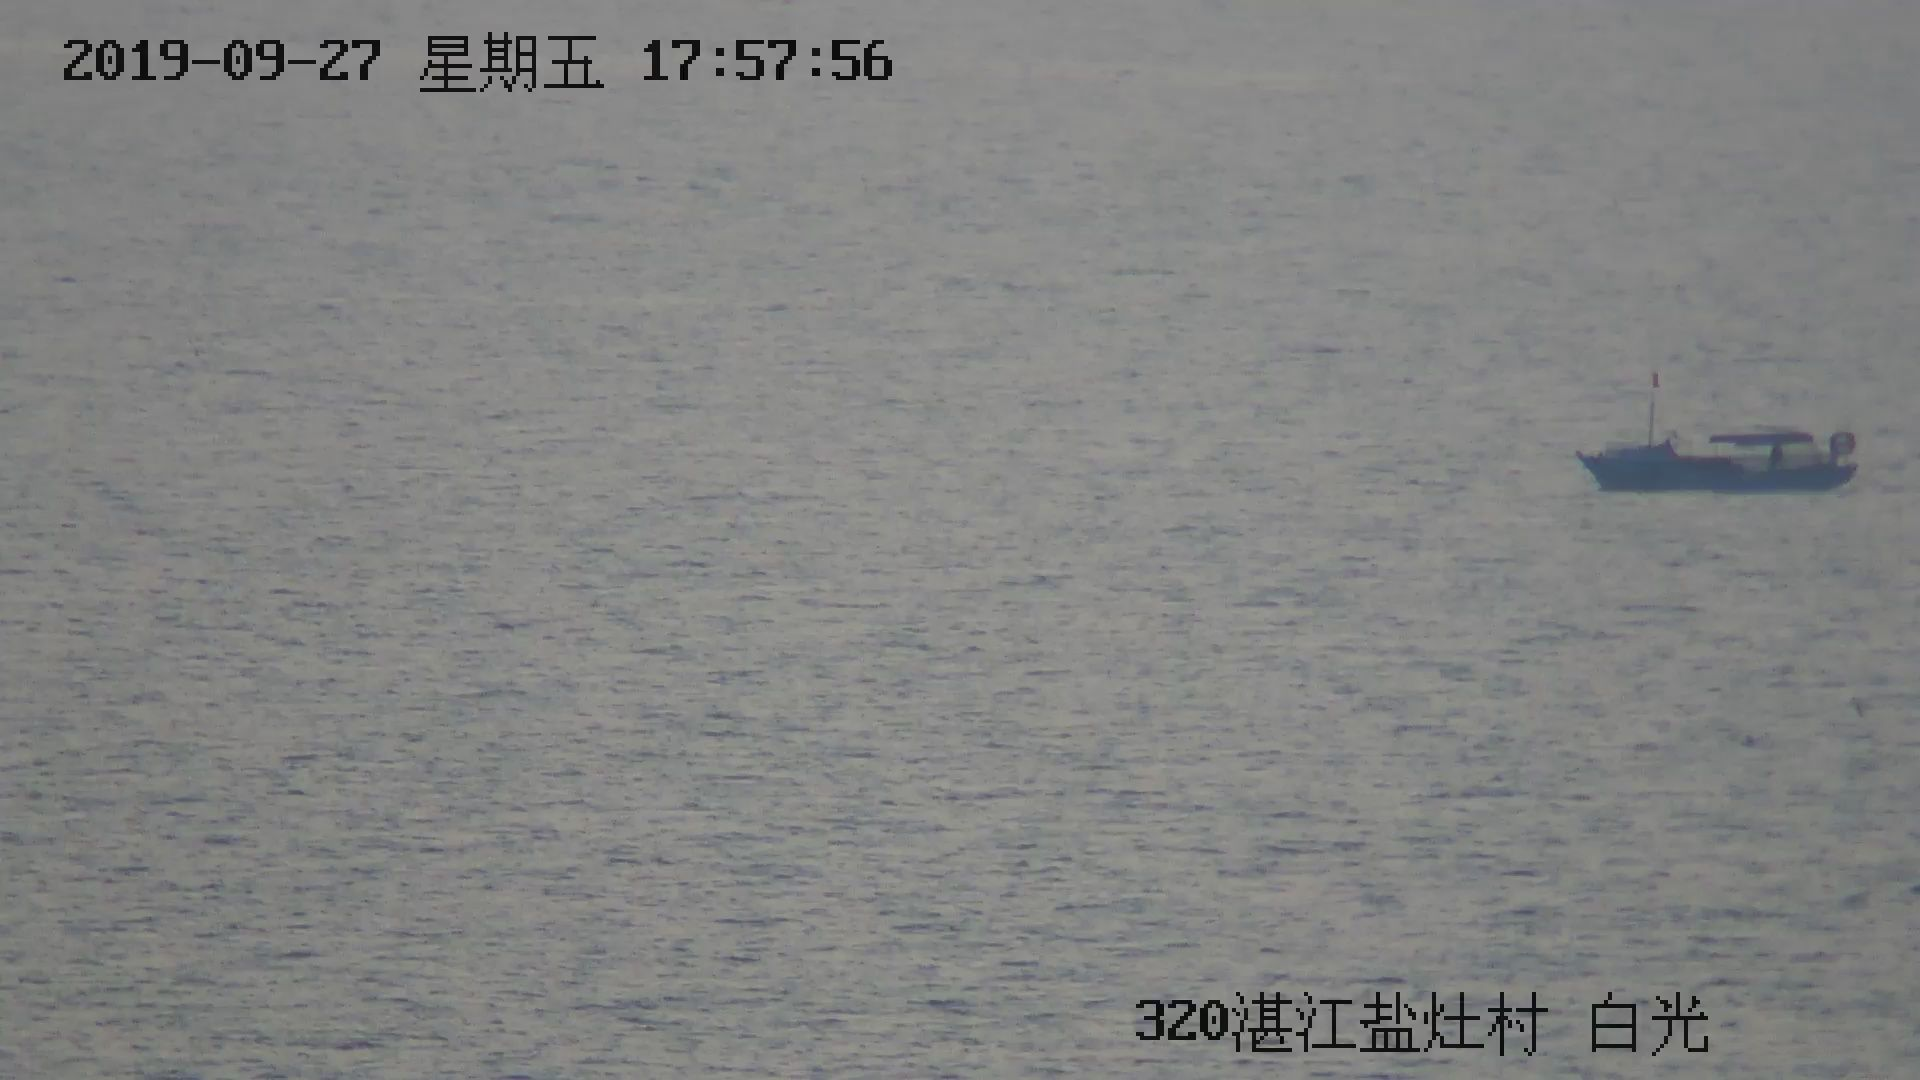ship: (1572, 375, 1862, 492)
